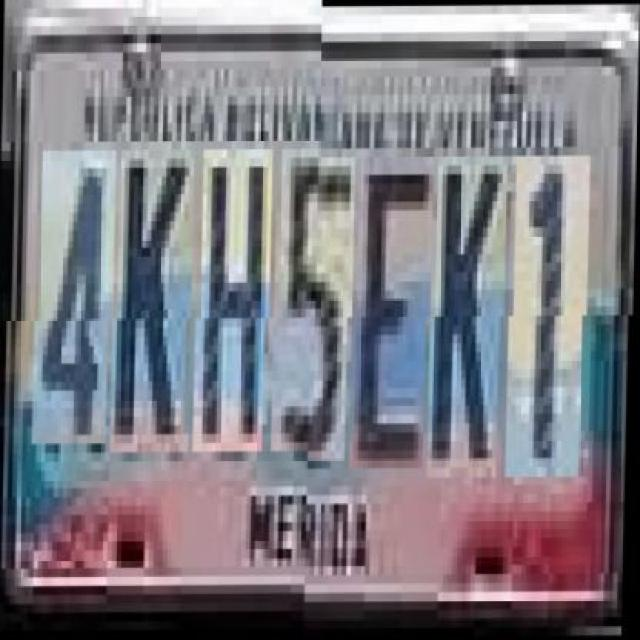1: (512, 157, 592, 477)
4: (38, 159, 118, 453)
5: (278, 157, 356, 460)
e: (356, 158, 435, 468)
h: (199, 157, 273, 460)
k: (116, 158, 196, 462), (433, 157, 509, 477)
